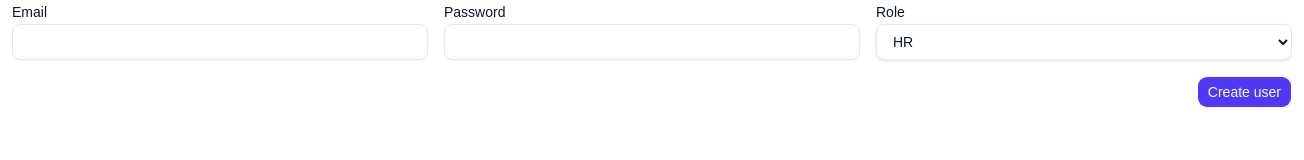
Scenario: UserCreateForm › shows required-field errors when submitting empty
Click the button "Create user": (1244, 92) x1=1197 y1=76 x2=1292 y2=108
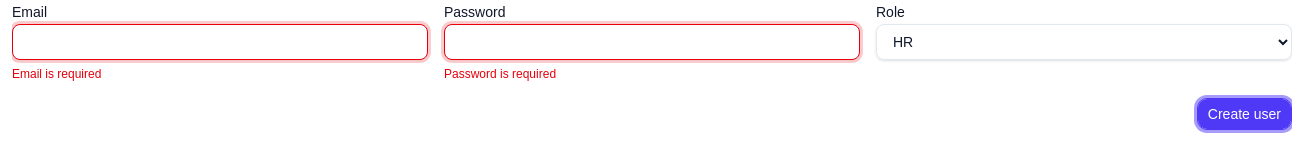
Result: the text "Email is required" is shown at x1=12 y1=67 x2=101 y2=81
Result: the text "Password is required" is shown at x1=444 y1=67 x2=556 y2=81
